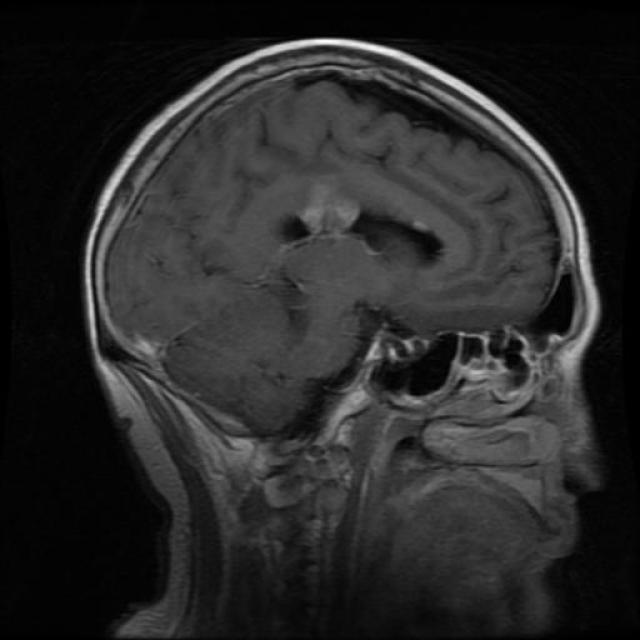glioma: (274, 188, 448, 278)
